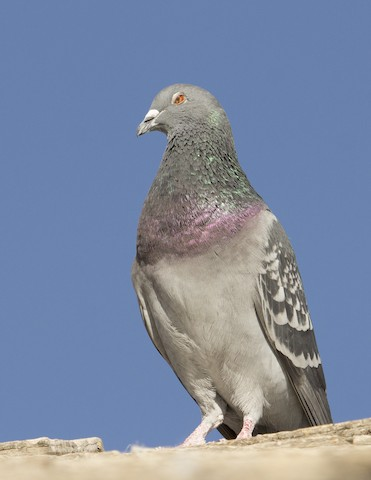pigeon: (121, 76, 346, 446)
